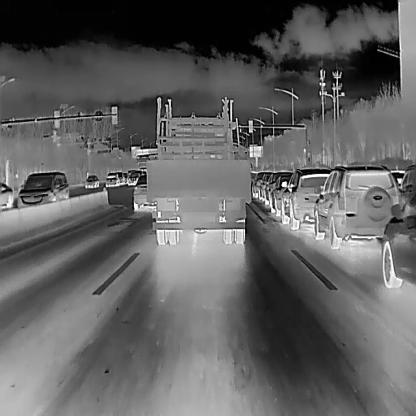car: (313, 165, 399, 249), (380, 182, 416, 288), (278, 166, 333, 230), (15, 168, 69, 210), (270, 171, 298, 217), (262, 169, 284, 207), (132, 174, 153, 213), (126, 169, 140, 186), (105, 170, 118, 188), (83, 174, 99, 188)
truck: (144, 114, 251, 244)
